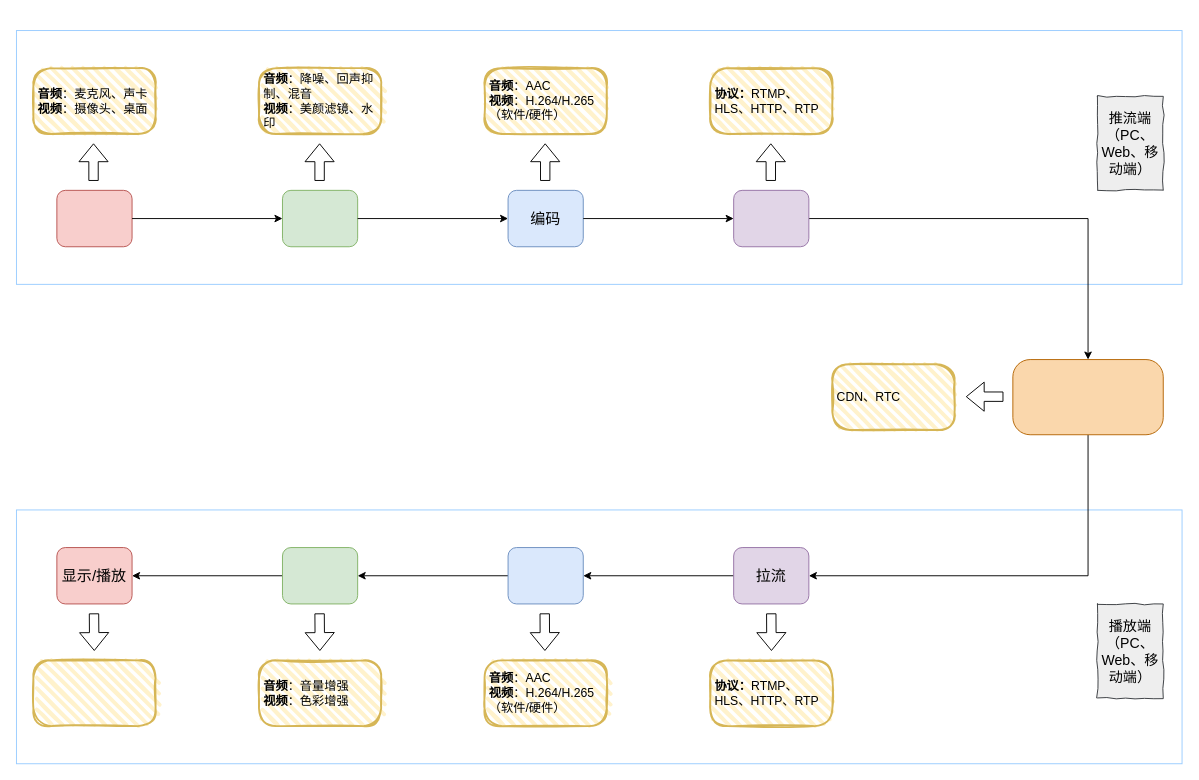
Some shapes in this 1199 by 780 pixel diagram are drawn without their labels. Each missing label, with the box of its shape:
后处理: (282, 547, 358, 604)
推流: (733, 189, 809, 247)
流媒体分发服务器: (1012, 359, 1163, 435)
视频 ：拉伸、裁剪等: (32, 659, 156, 727)
解码: (507, 547, 583, 604)
采集: (56, 189, 132, 247)
预处理: (282, 189, 358, 247)
